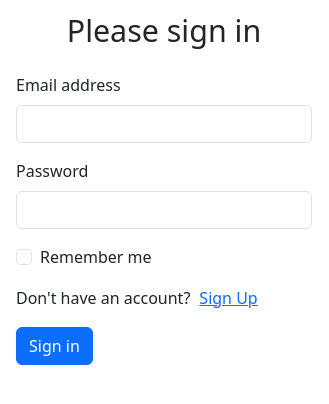
Scenario: displays error message when password is less than 8 characters
This screenshot has width=329, height=404.
Type "test@test.com" into the field labelled "Email address" at x=164, y=124, box x1=16 y1=104 x2=312 y2=142
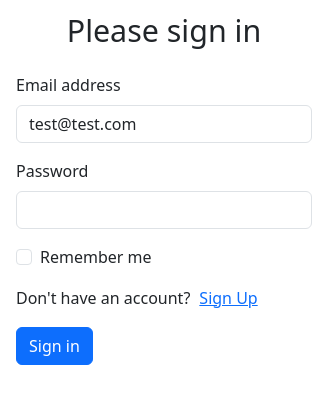
Type "123" into the password field labelled "Password" at x=164, y=210, box x1=16 y1=190 x2=312 y2=228
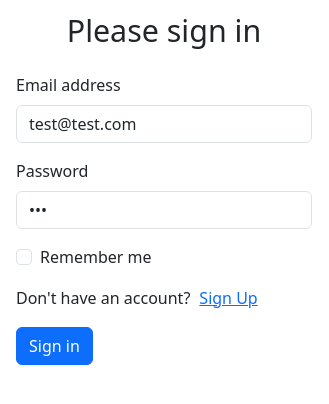
Click the button "Sign in" at x=54, y=346, box x1=16 y1=326 x2=93 y2=364
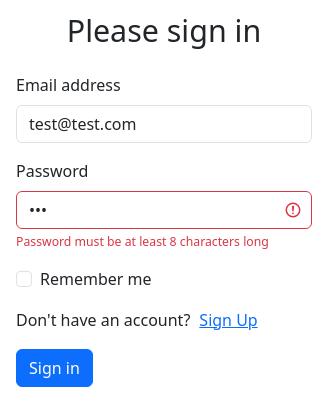
Result: the text "Password must be at least 8 characters long" is shown at x1=16 y1=232 x2=312 y2=251
